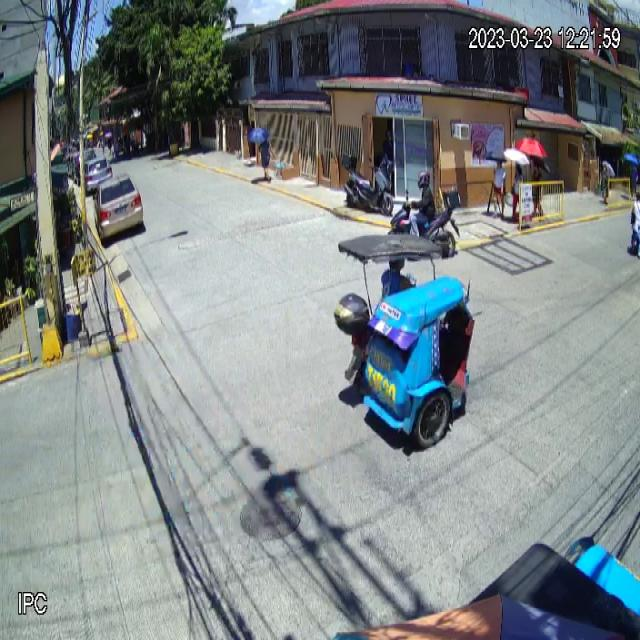Car: (94, 173, 143, 244)
Motorcycle: (388, 188, 462, 258), (341, 155, 395, 216)
Tricycle: (332, 231, 478, 450)
